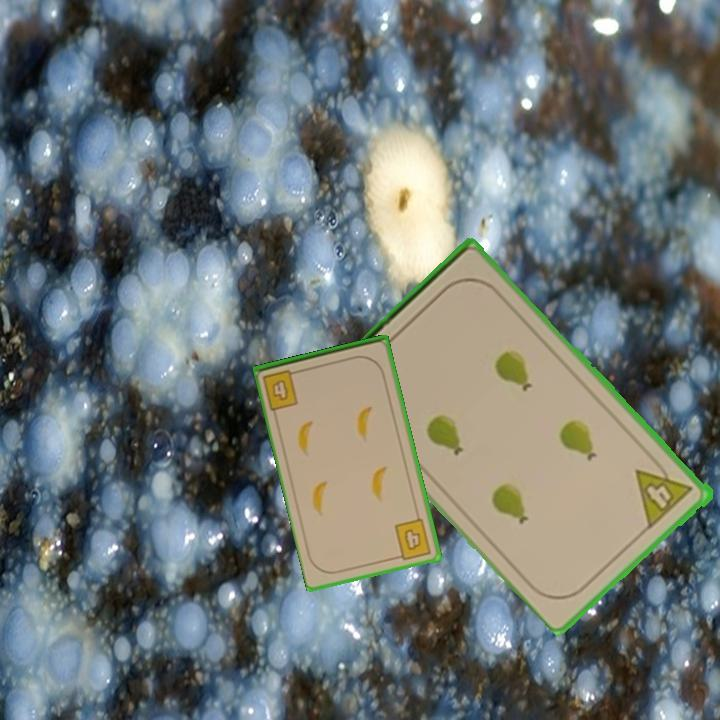4b: (259, 366, 304, 413), (391, 515, 434, 563)
4p: (632, 453, 697, 530)
